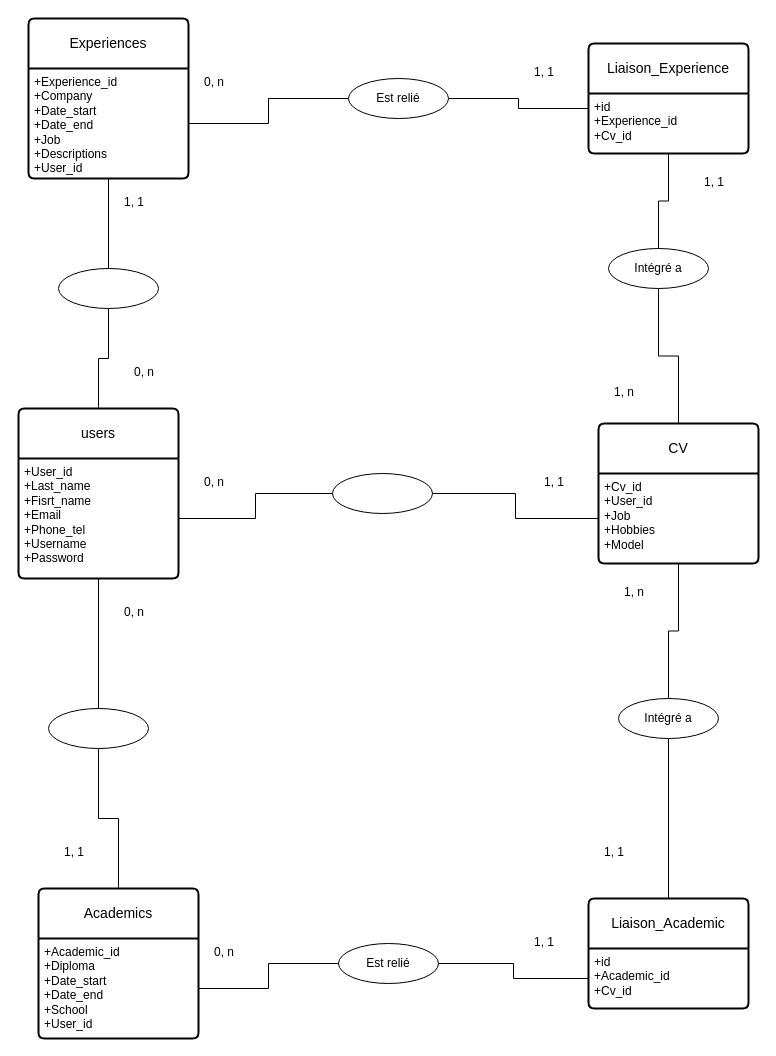
The diagram is 776 pixels wide and 1056 high, and some of its shapes have lost their labels. The centre of each missing label's shape, as x and y in pixels:
"A exercé" goes at point (108, 288).
"A suivi" goes at point (98, 728).
"Rédigé par" goes at point (382, 493).
